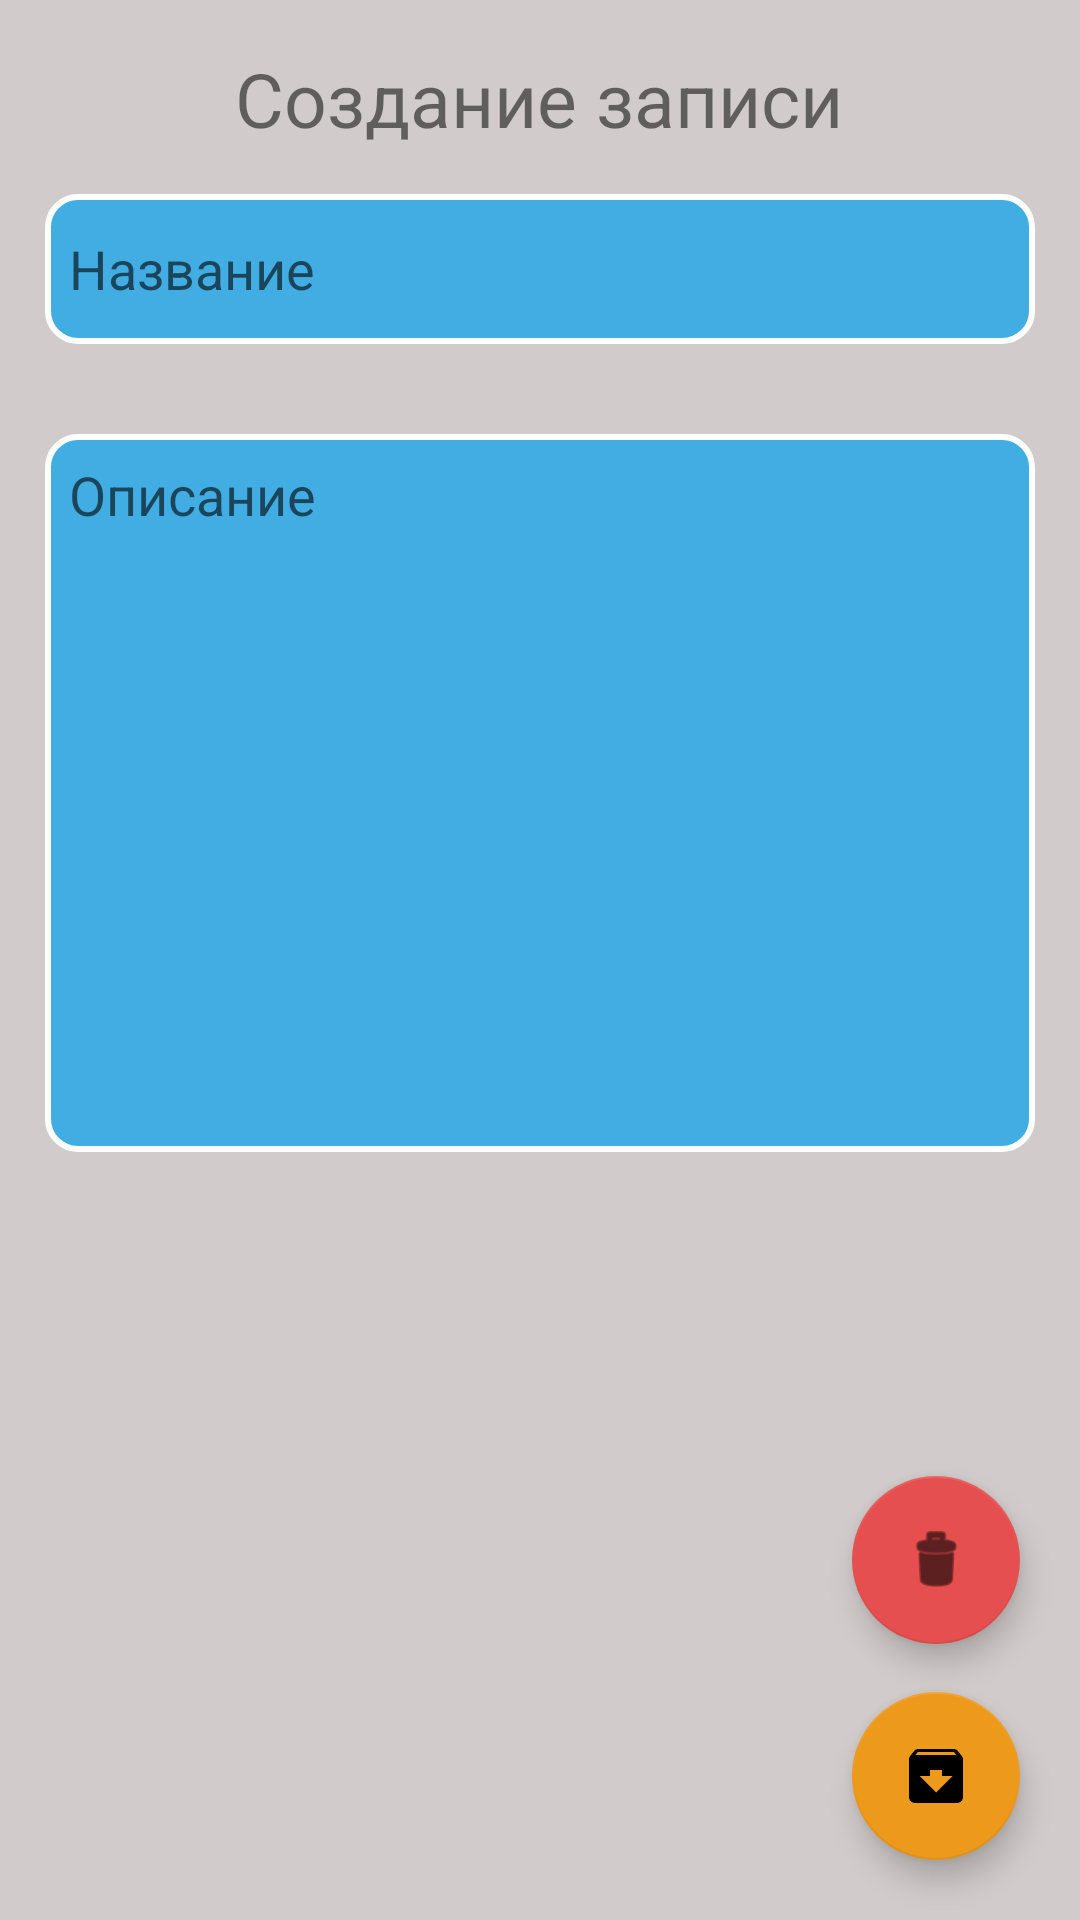

Icon bounding boxes for this 1080×1920 phone screenshot, format rect(x1, y1, x2, y2):
archive: rect(852, 1692, 1020, 1860)
delete: rect(852, 1476, 1020, 1644)
